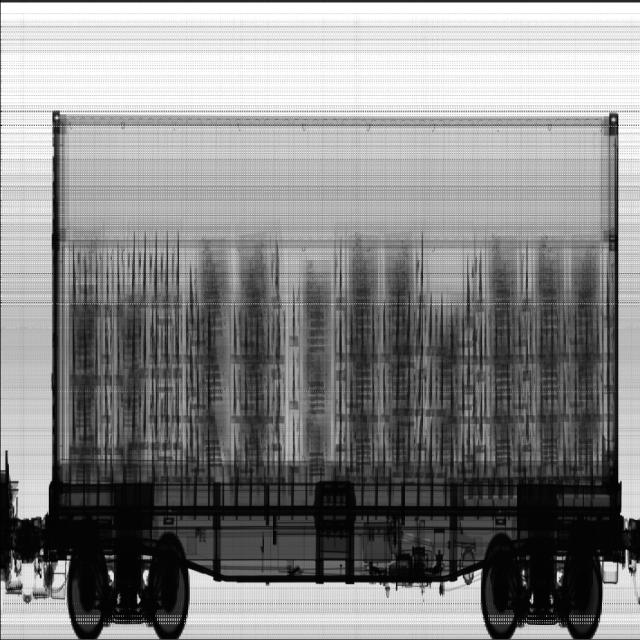spare parts: (62, 236, 288, 478)
